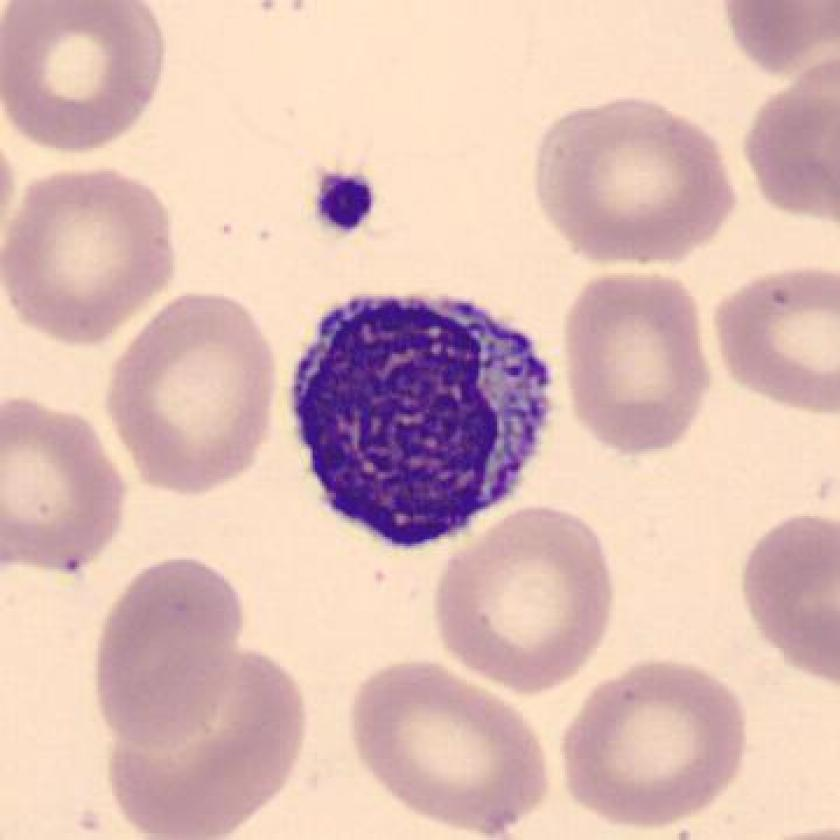lymphocyte: (274, 274, 568, 573)
